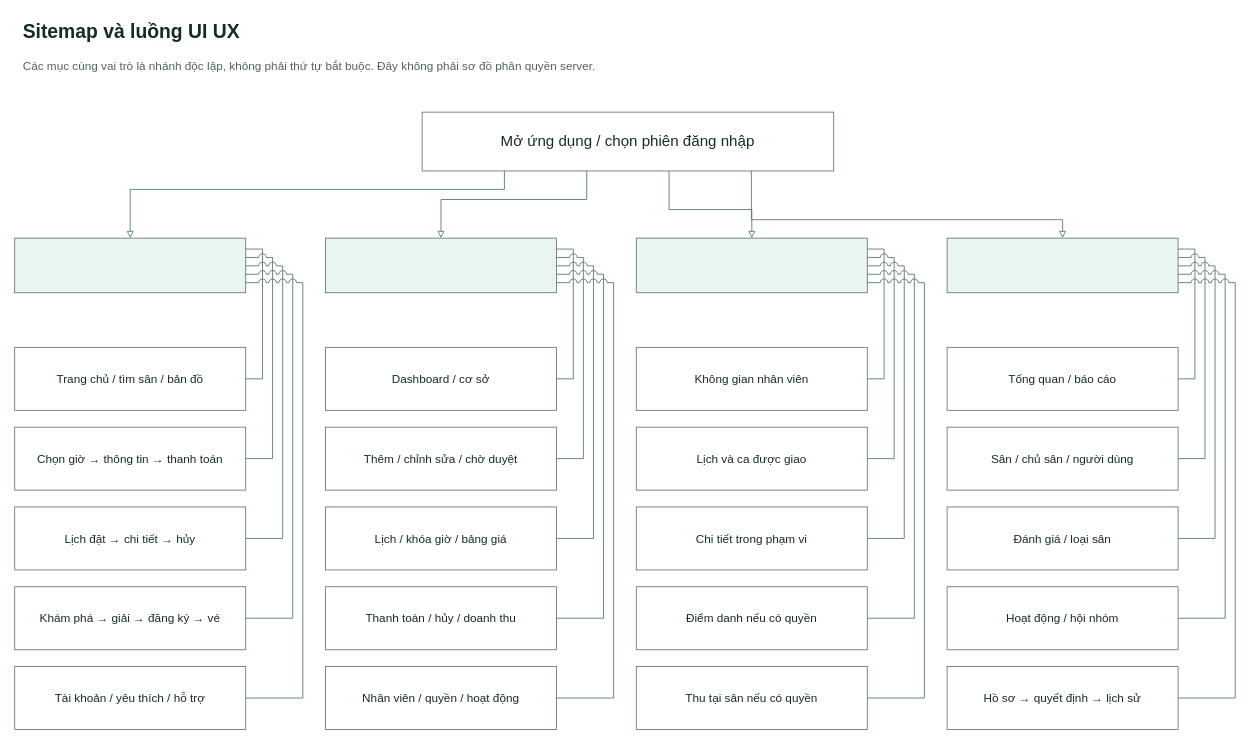
Image size: 1251x744. Some labels were removed from this diagram. Here are the shapes that lost their labels. From the top down, the box of each, then its label:
(14, 237, 246, 293): Khách hàng
(325, 237, 556, 293): Chủ sân
(635, 237, 867, 293): Nhân viên
(946, 237, 1178, 293): Admin
